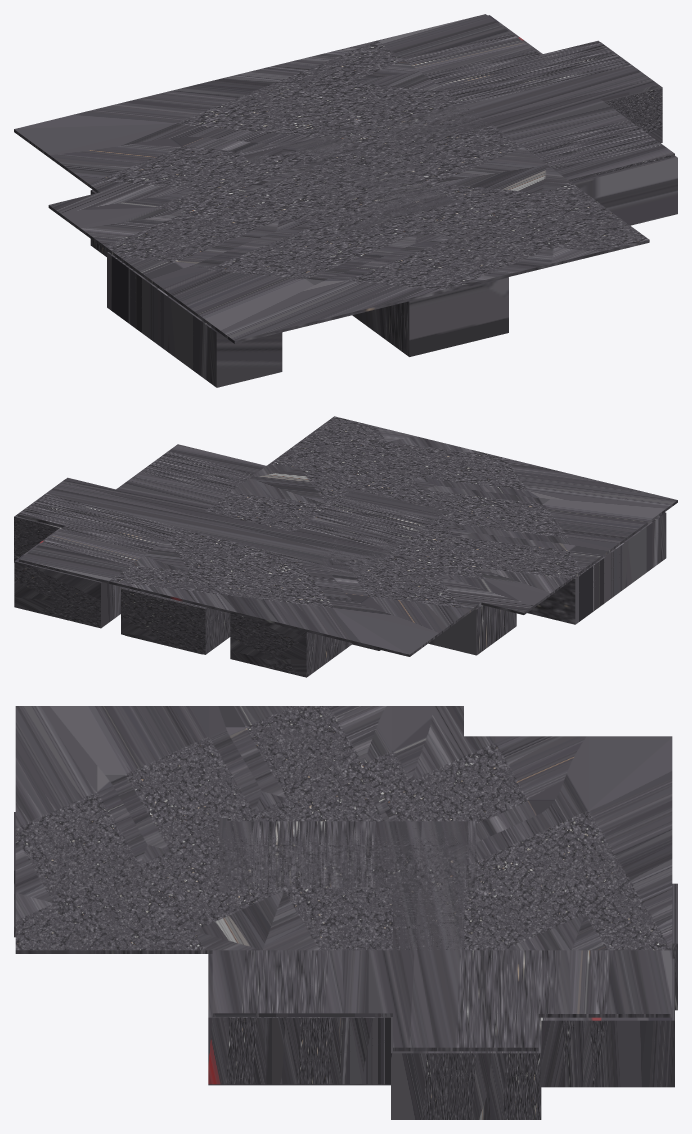
File: ma_galerie.glb
The picture shows the model from 3 angles, top to bottom: view 1: azimuth 30°, elevation 25°; view 2: azimuth 150°, elevation 25°; view 3: azimuth 270°, elevation 25°; orthographic projection. The views are drawn at different scales.
Parts seen in each view (by area): view 1: Wall_Nord; view 2: Wall_Nord; view 3: Wall_Nord.
Part boxes in pixels (x1,y1,x2,y2): Wall_Nord: (14,14,677,387); Wall_Nord: (14,416,677,677); Wall_Nord: (14,706,677,1119).
Size of the model in its own units: 65.91 by 6.37 by 53.65.
1 material, 1 textured.
